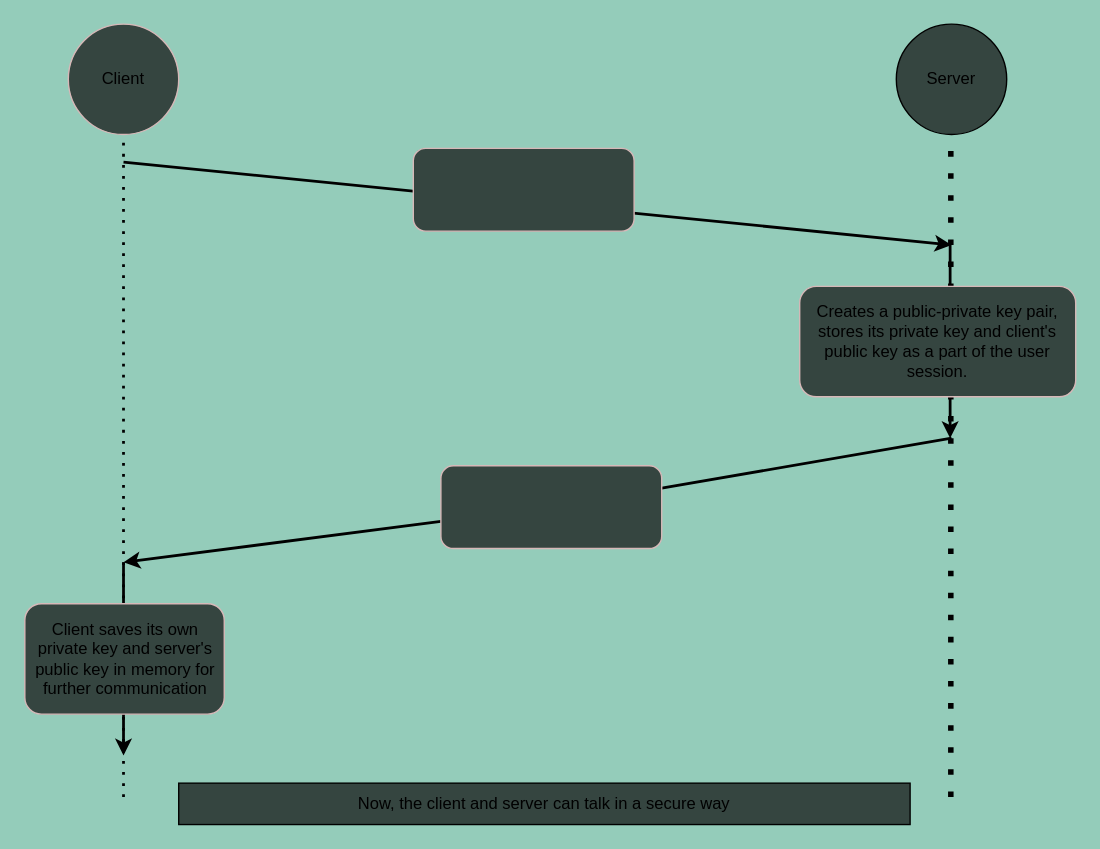
This 1100x849 diagram has some shape labels left out. Each missing label, with the centre of its shape:
Create a public-private key pair and send public key to the server: (x=523, y=189)
Server sends its own public key in response: (x=551, y=506)
